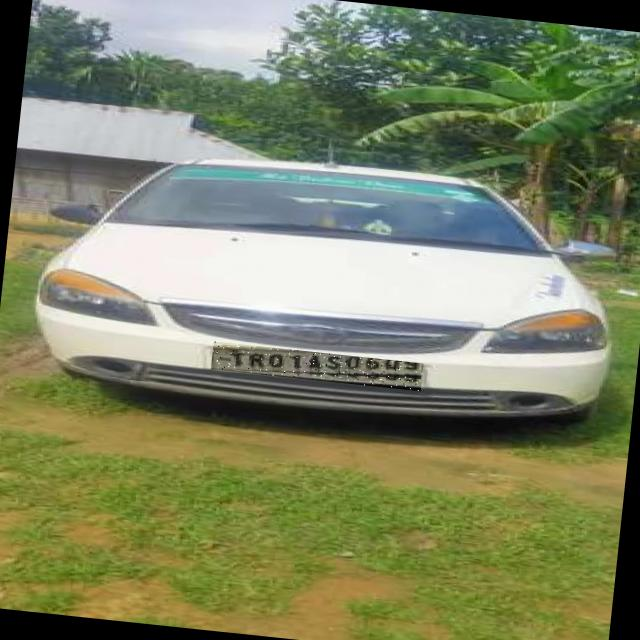Plate: (211, 343, 424, 393)
